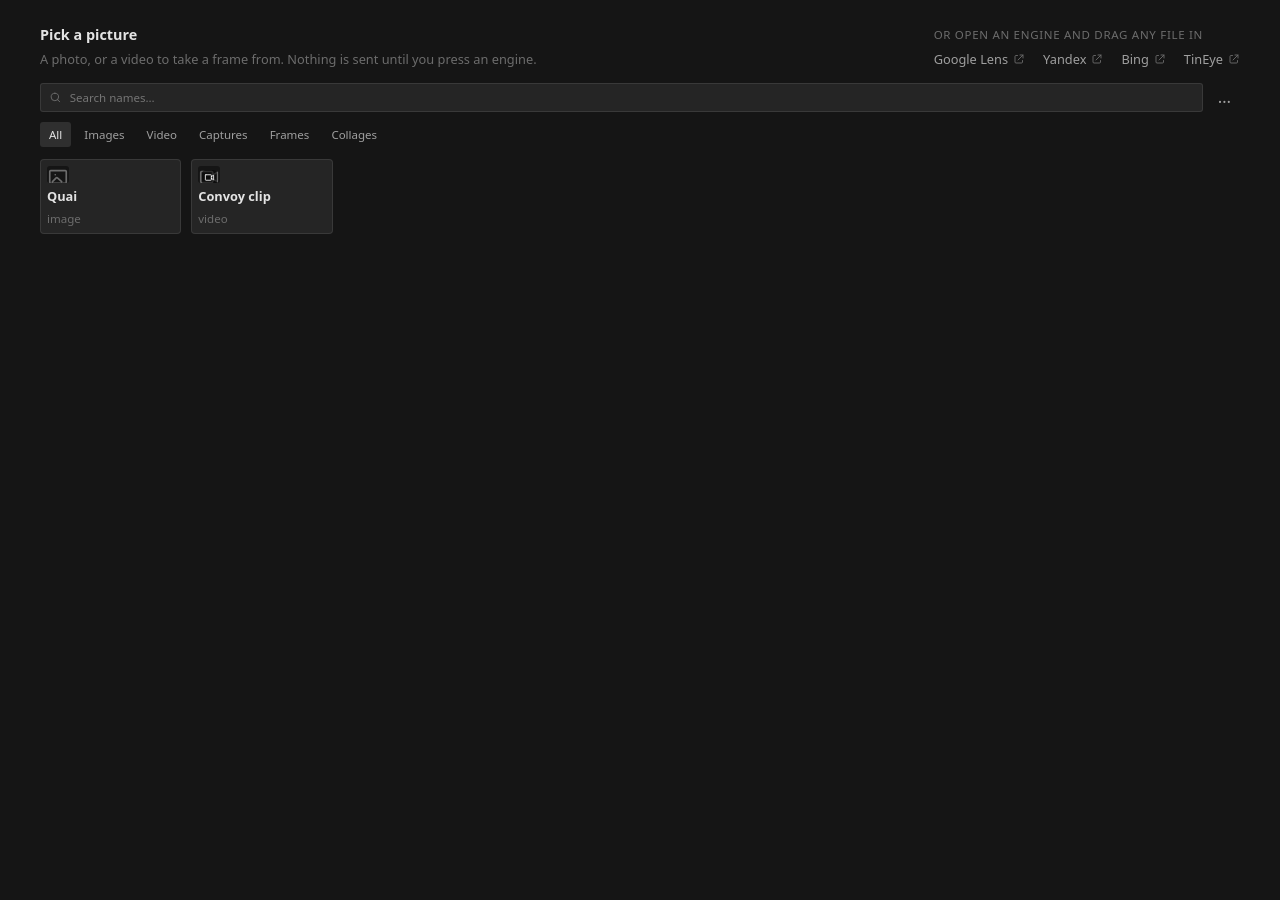
it: the landing › changes the picture from the same list, marking the one shown
This screenshot has width=1280, height=900.
Click the button "Quai image": {"x": 111, "y": 197} [40, 159, 181, 234]
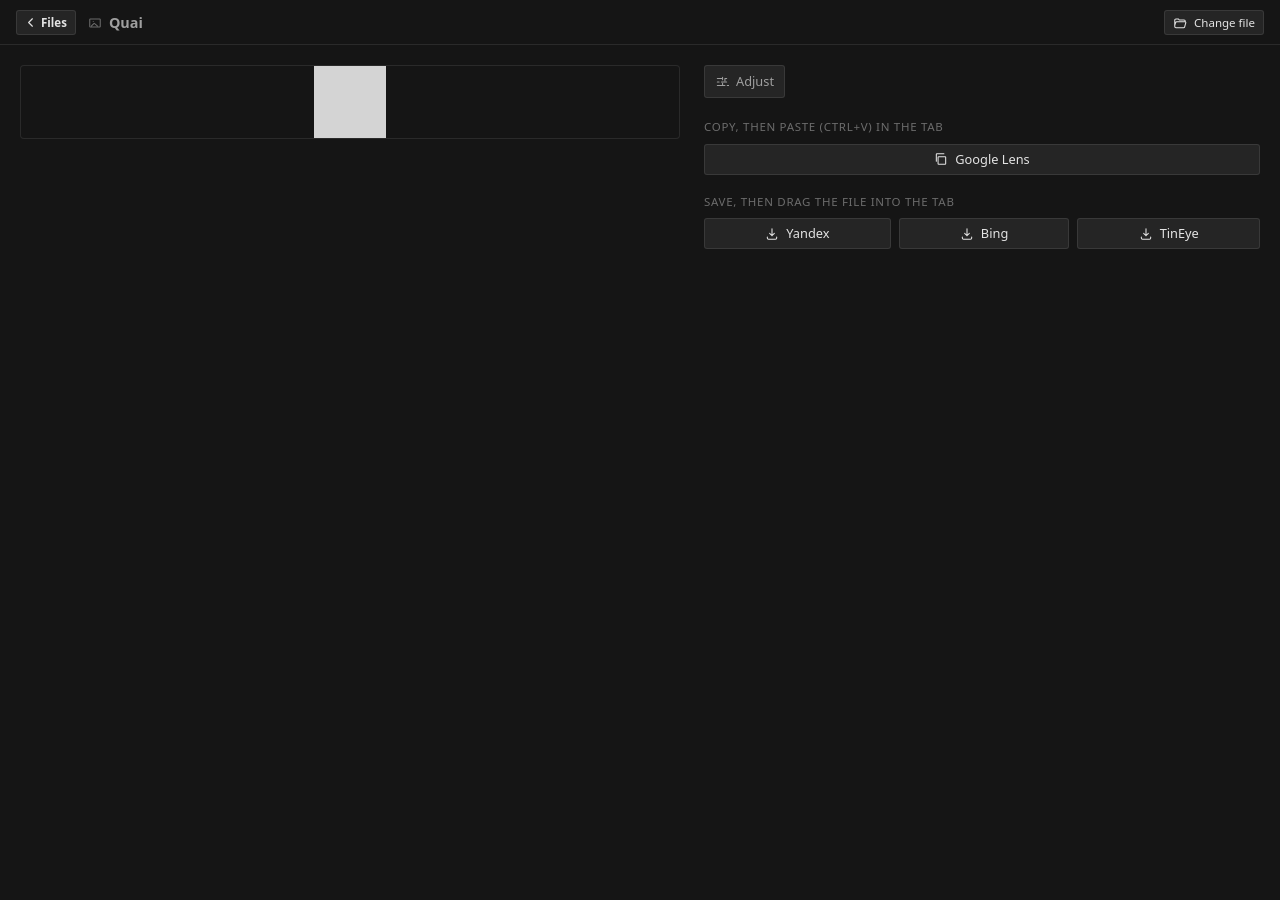
Click the button "Change file": {"x": 1214, "y": 23} [1164, 10, 1264, 35]
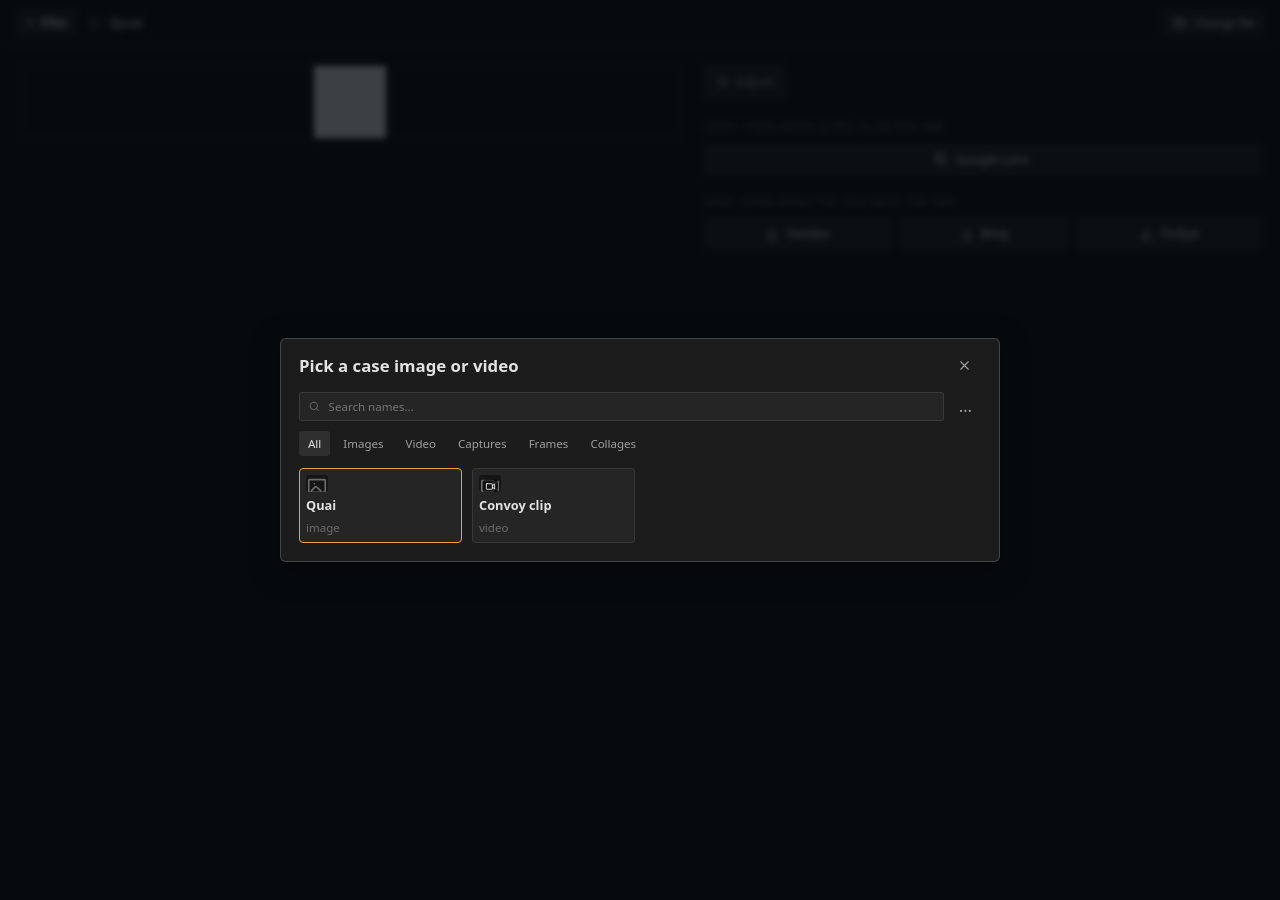
Expected: the text with class "title" reads "Quai", [306, 496, 336, 514]
Click the button "Convoy clip video": {"x": 554, "y": 506} [472, 468, 635, 543]
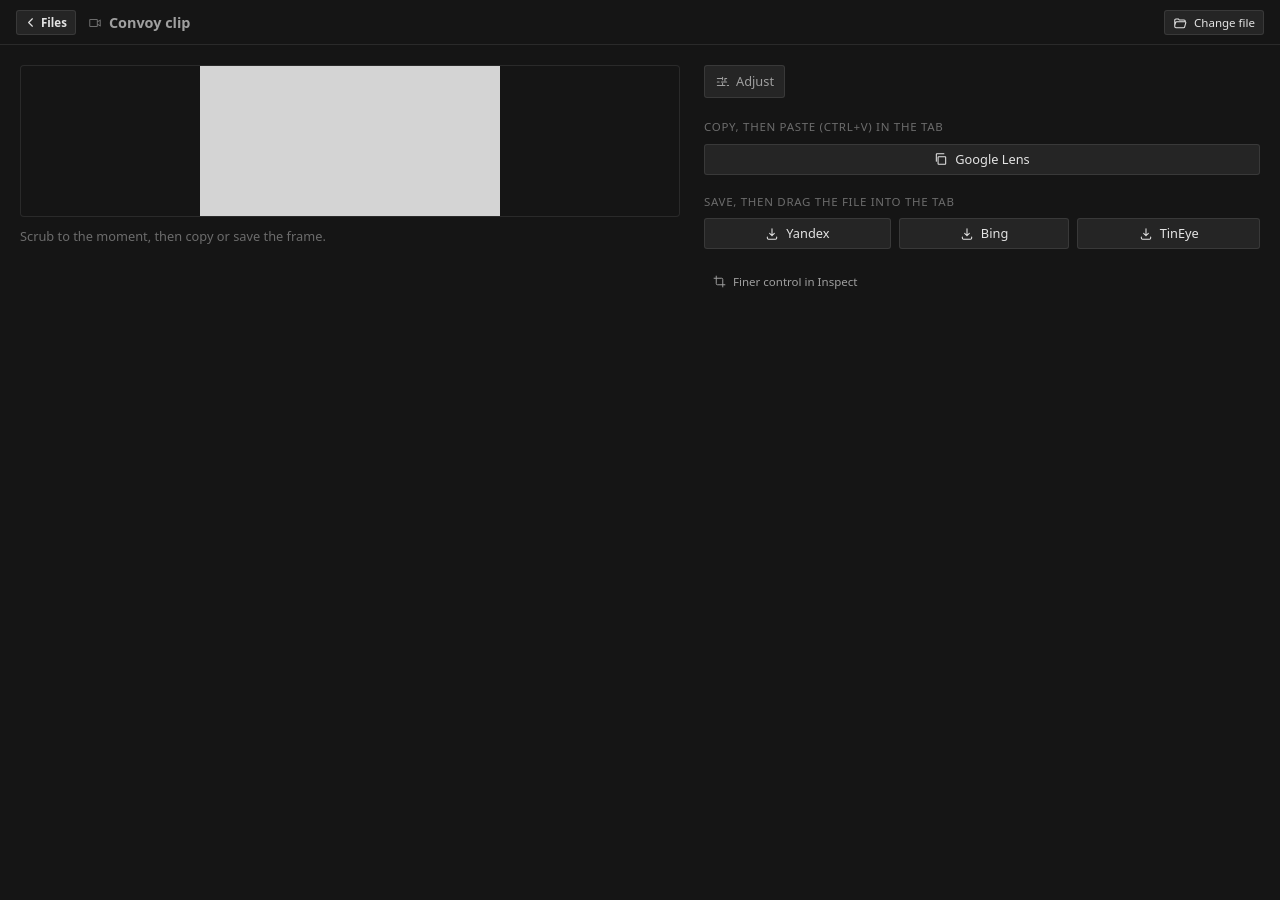
Expected: the dialog is gone
